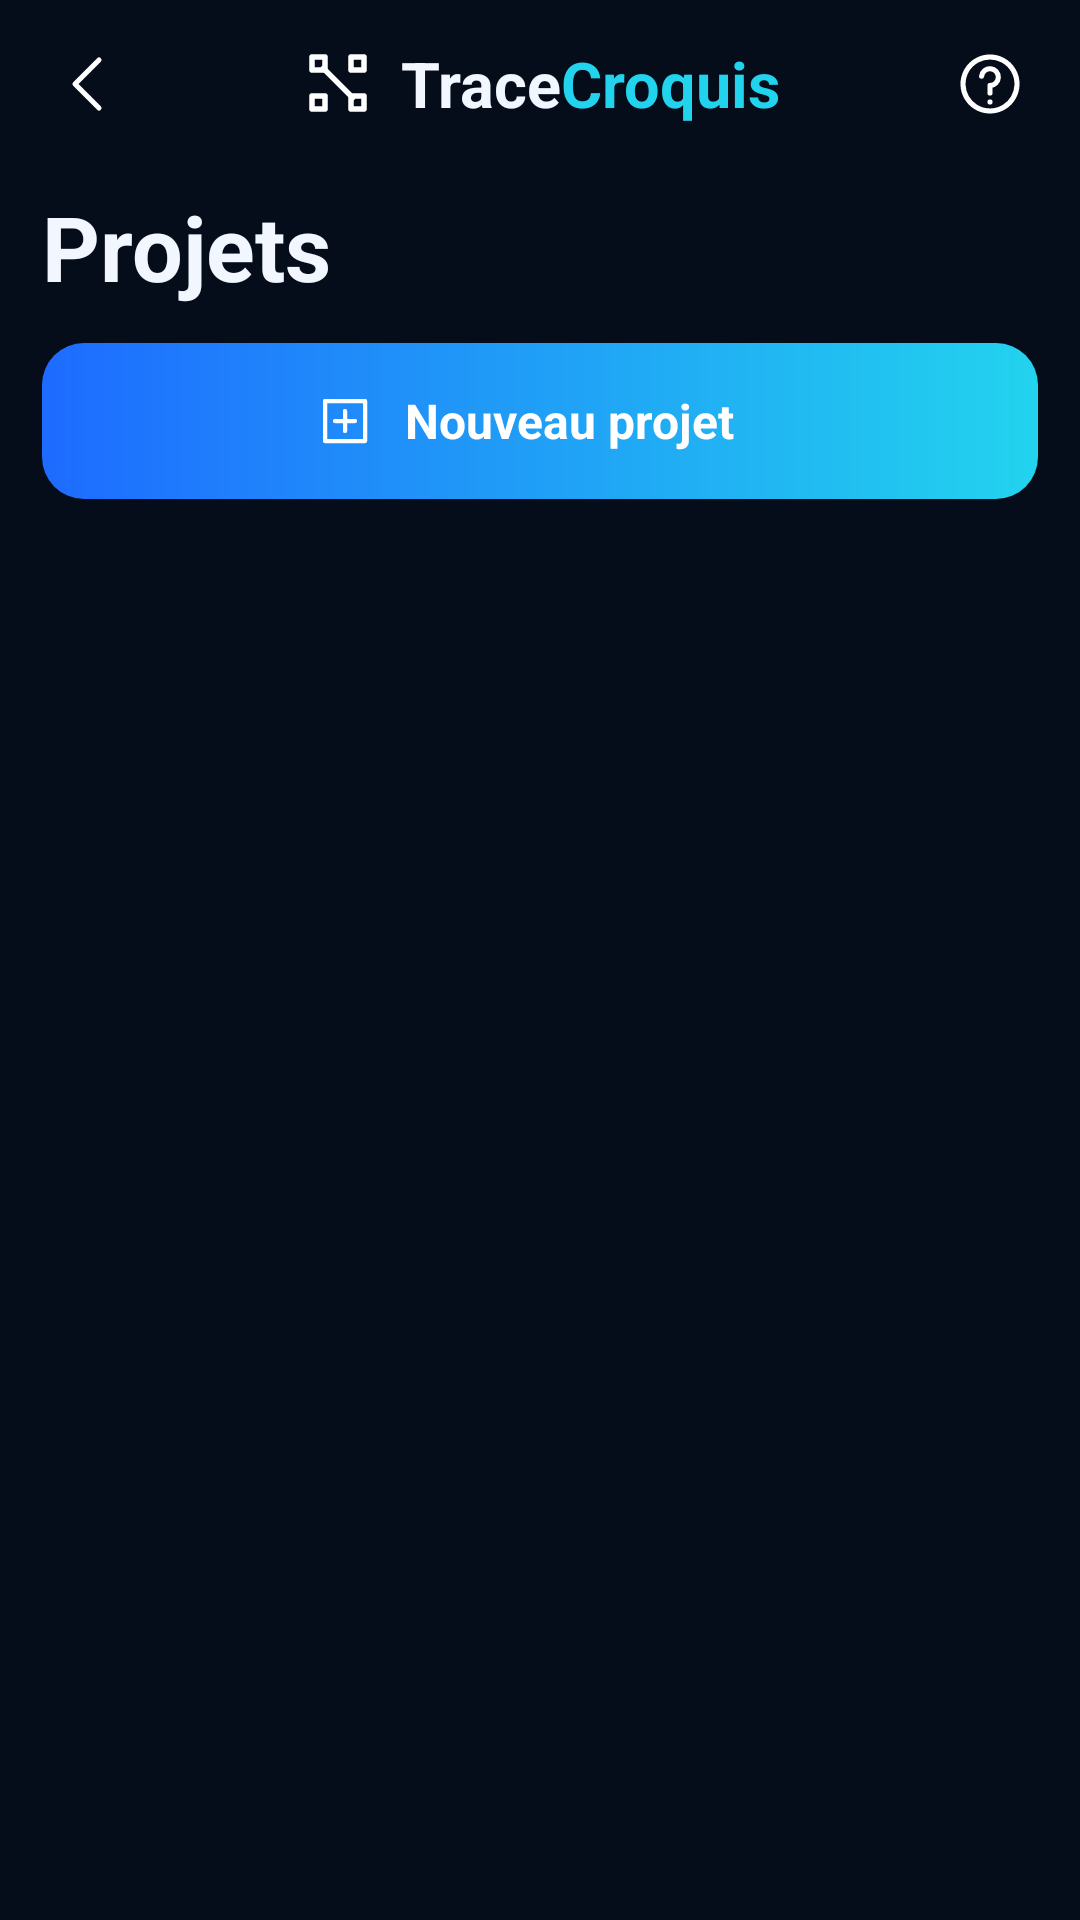

Icon bounding boxes for this 1080px x 1920px phone screenshot, format {"left": x1, "top": y1, "right": x2, "bottom": y2}:
Aide: {"left": 960, "top": 54, "right": 1020, "bottom": 114}
plus box: {"left": 323, "top": 399, "right": 368, "bottom": 444}
Retour: {"left": 72, "top": 57, "right": 102, "bottom": 111}
